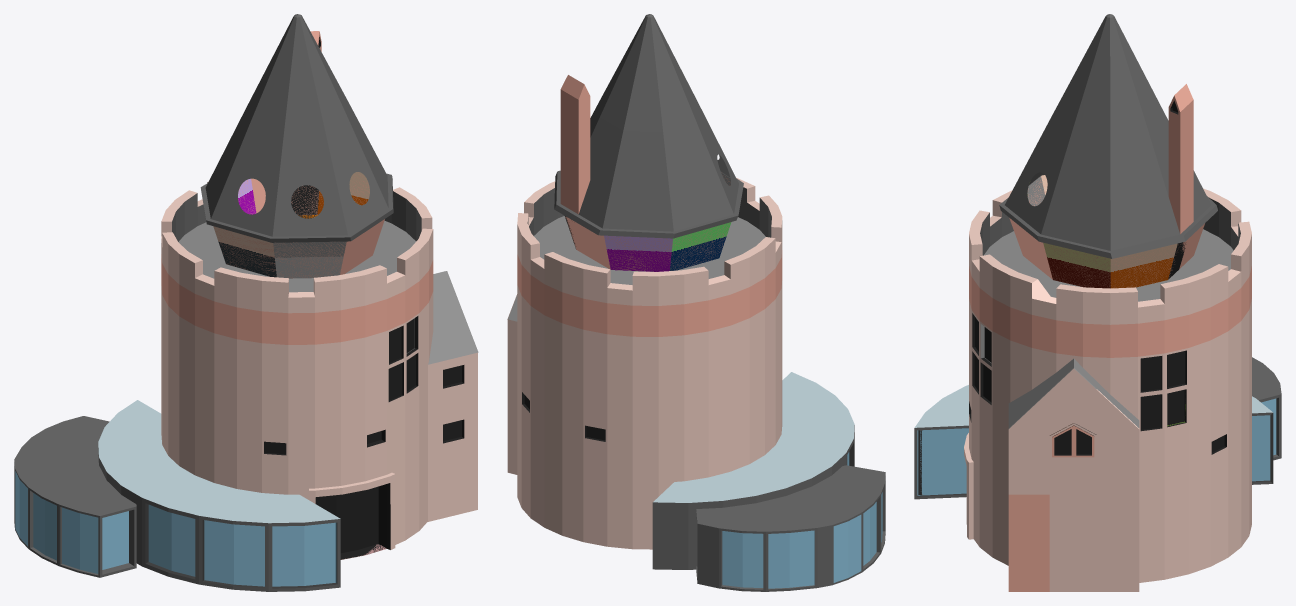
File: gevangenentoren_no_camera.fbx
3 views of the same model, side by side, from view 1: azimuth 30°, elevation 25°; view 2: azimuth 150°, elevation 25°; view 3: azimuth 270°, elevation 25° (orthographic). The views are drawn at different scales.
Parts seen in each view (by area): view 1: Cylinder, Cube, Cylinder.001, Cylinder.002, Cube.001; view 2: Cylinder, Cube, Cylinder.002, Cylinder.001, Cube.001; view 3: Cylinder, Cube, Cube.001, Cylinder.001, Cylinder.002.
Part boxes in pixels (x1,y1,x2,y2): Cylinder: [161, 181, 433, 559]; Cube: [200, 14, 393, 278]; Cylinder.001: [98, 400, 340, 591]; Cylinder.002: [14, 416, 136, 577]; Cube.001: [428, 271, 478, 521]; Cylinder: [517, 177, 782, 549]; Cube: [554, 14, 743, 271]; Cylinder.002: [696, 465, 885, 591]; Cylinder.001: [652, 372, 854, 569]; Cube.001: [507, 294, 517, 474]; Cylinder: [964, 188, 1251, 582]; Cube: [999, 14, 1217, 288]; Cube.001: [1008, 358, 1139, 591]; Cylinder.001: [914, 385, 1273, 499]; Cylinder.002: [1252, 357, 1281, 460].
Size of the model in its own units: 840 by 1057 by 684.
